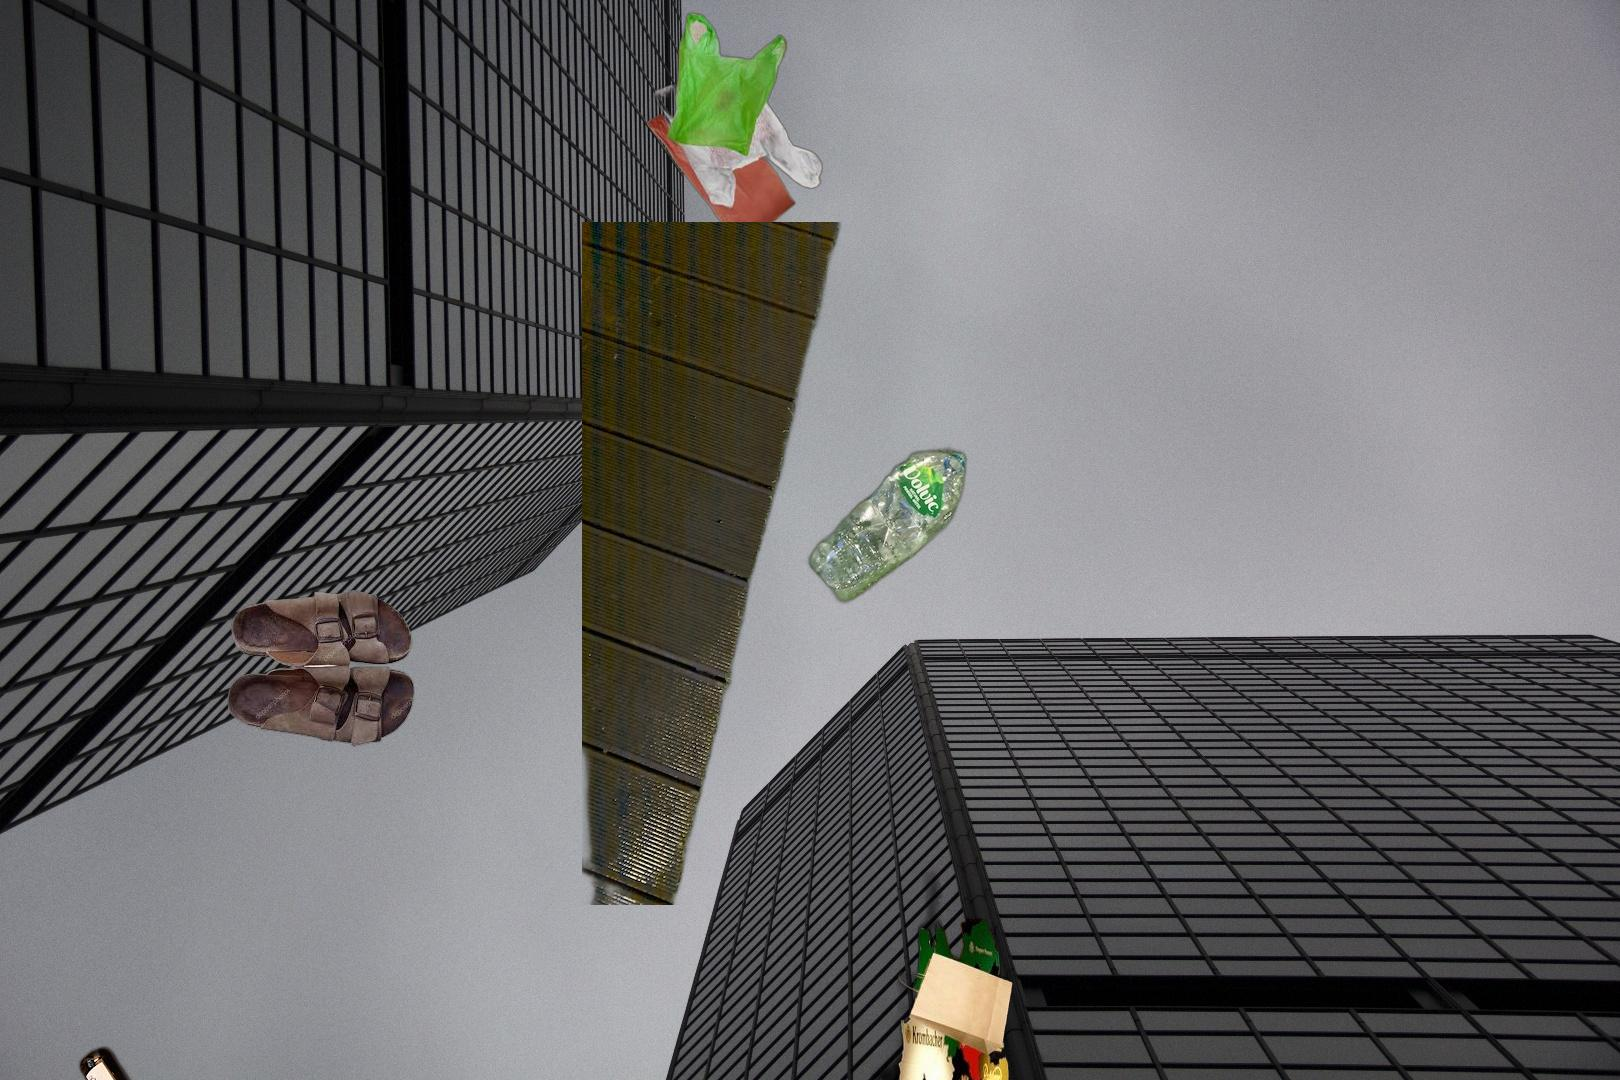glass: (75, 1042, 173, 1080)
paper-bag: (868, 865, 1015, 1080)
plastic-bag: (643, 10, 826, 250)
plastic-bottles: (582, 222, 971, 905)
shoes: (225, 585, 417, 752)
